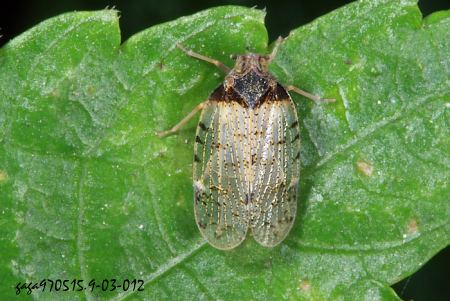Delphacidae: (154, 33, 337, 251)
